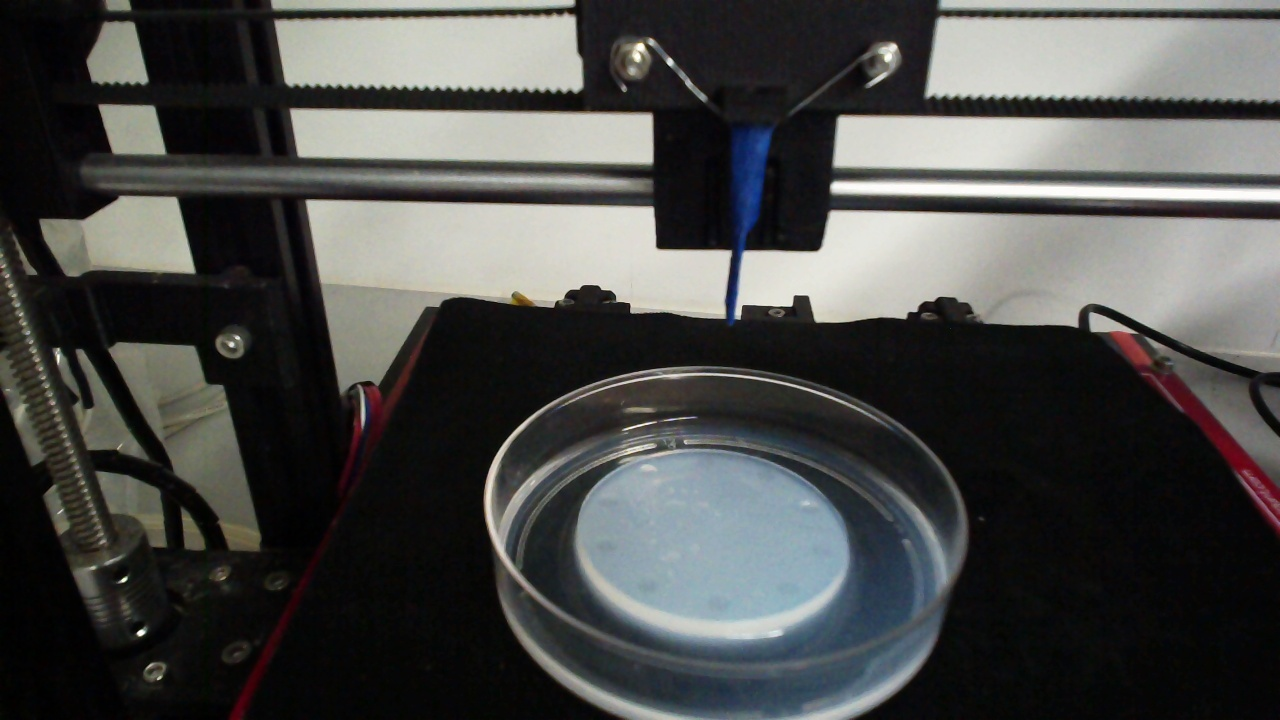groove: (811, 539, 837, 561), (706, 594, 734, 614), (774, 578, 801, 598), (635, 577, 662, 596), (798, 499, 823, 517), (595, 492, 621, 509), (594, 537, 617, 554), (755, 468, 778, 484), (696, 452, 716, 469), (638, 463, 660, 478)
needle: (727, 130, 770, 322)
